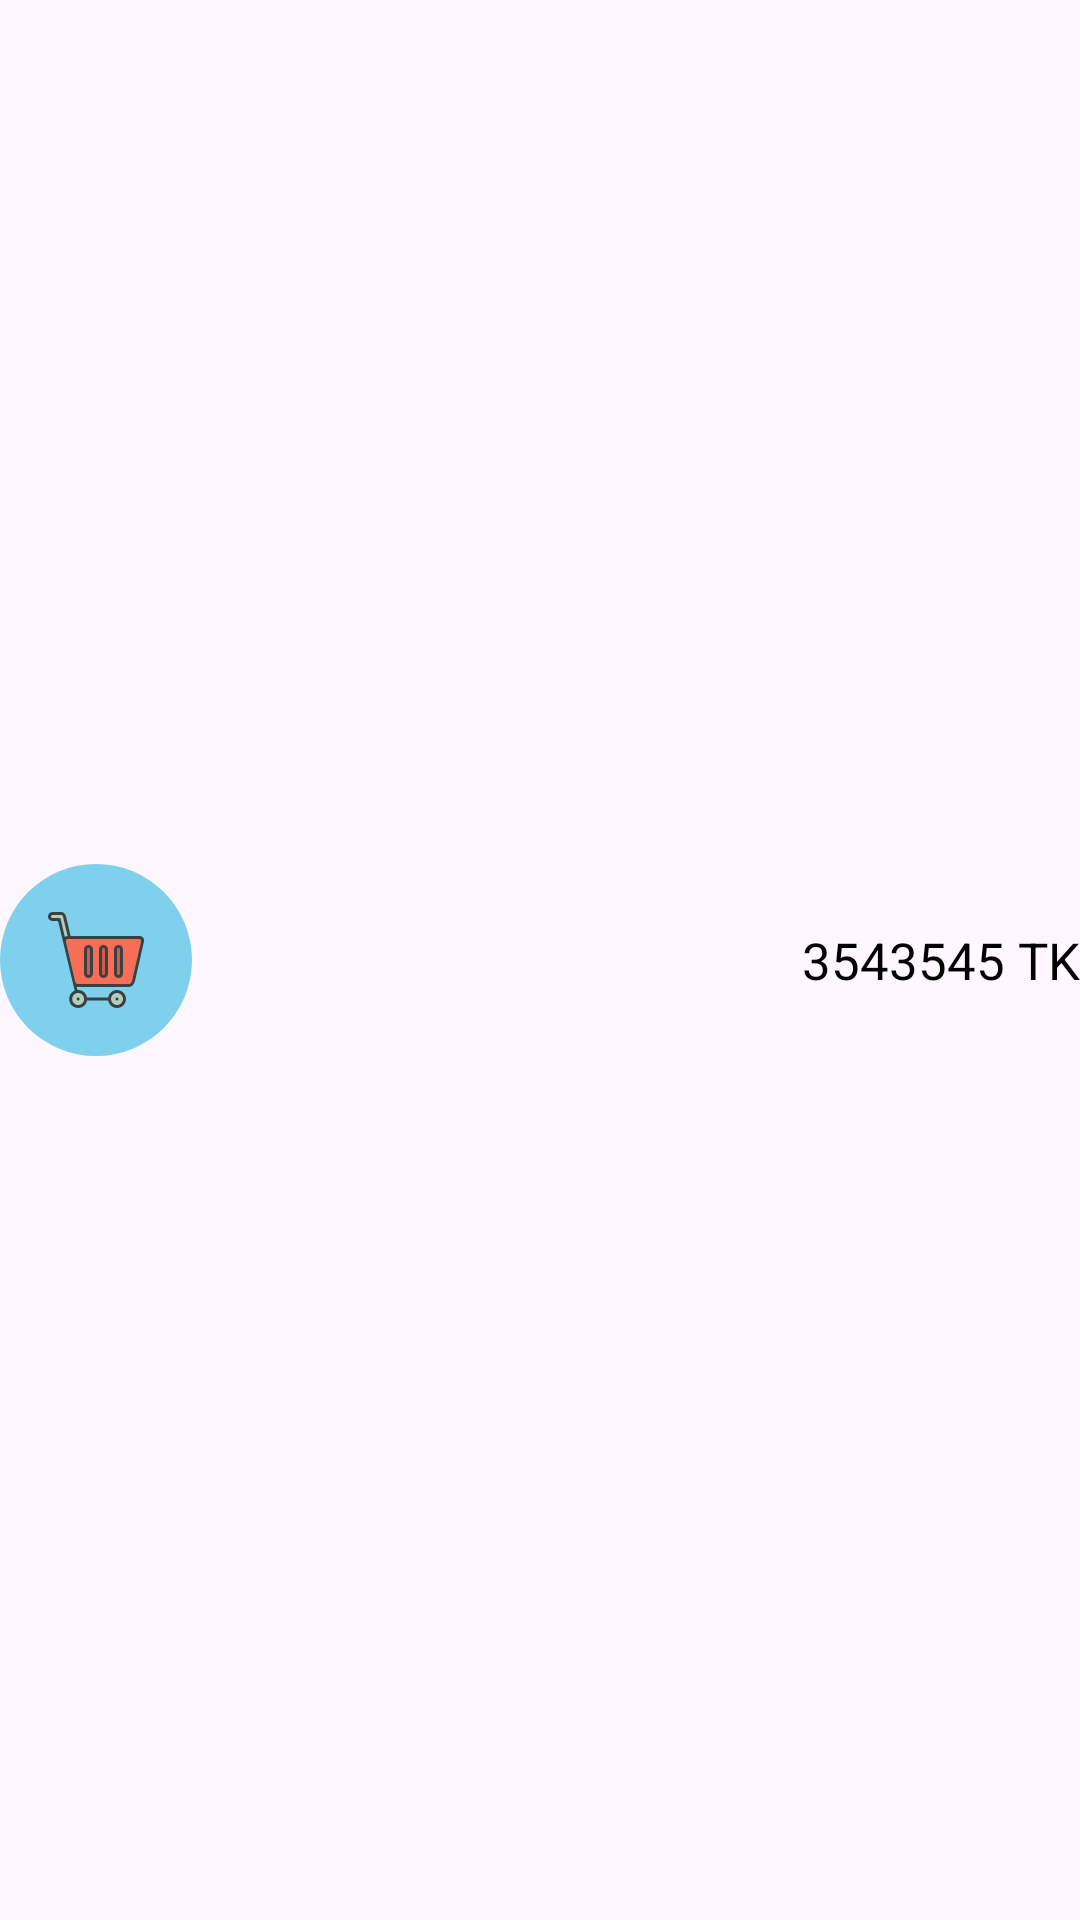

Icon bounding boxes for this 1080*1920 phone screenshot, format bbox=(x1, y1, x2, y2):
shopping: bbox=(0, 864, 192, 1056)
